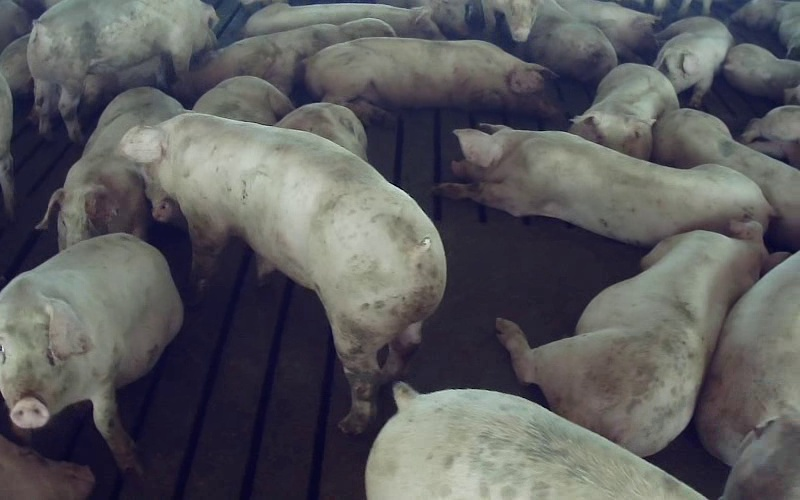pig: (121, 113, 444, 432), (0, 233, 182, 470), (434, 125, 773, 245), (365, 382, 705, 499), (27, 0, 217, 141), (36, 87, 184, 249), (305, 38, 561, 120), (652, 108, 799, 250), (173, 18, 395, 104), (569, 64, 678, 159), (654, 16, 733, 107), (244, 3, 443, 39)
